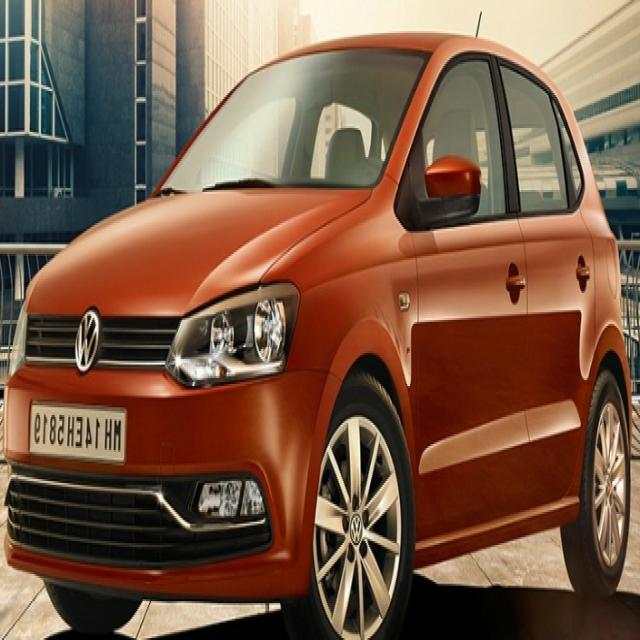license_plate: (26, 398, 130, 468)
